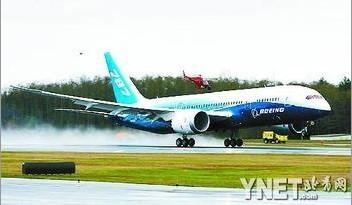airplane: (8, 51, 332, 145)
